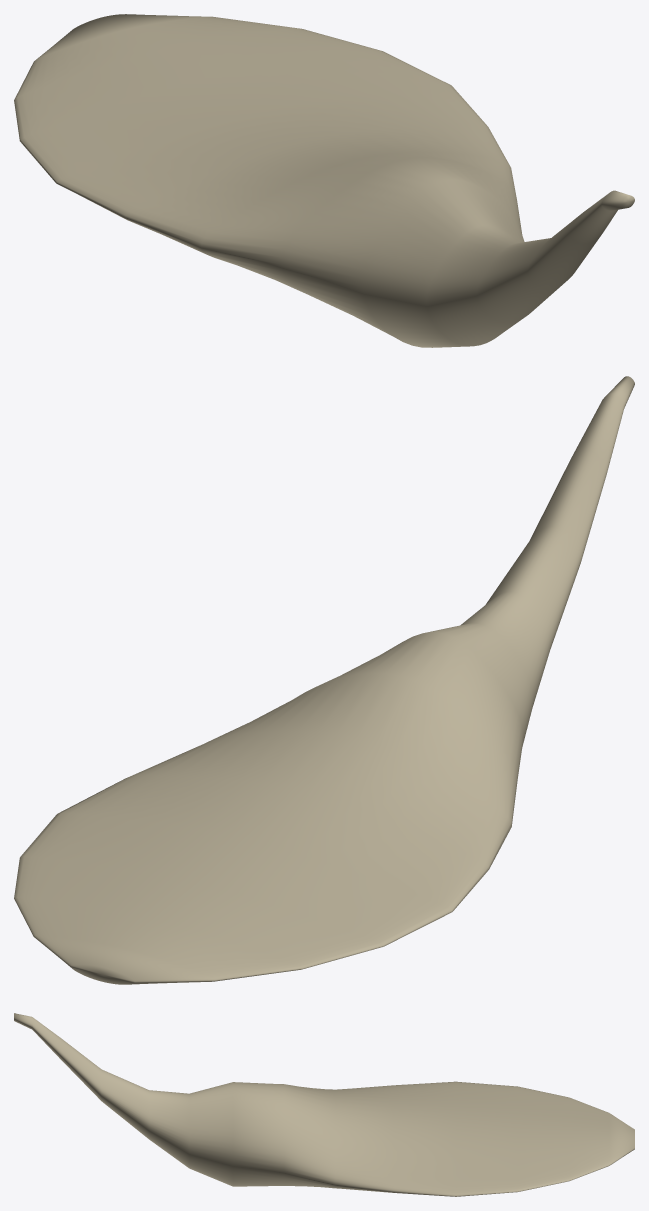
The model's file is belosaepia.glb.
The picture shows the model from 3 angles, top to bottom: view 1: azimuth 30°, elevation 25°; view 2: azimuth 150°, elevation 25°; view 3: azimuth 270°, elevation 25°; orthographic projection. The views are drawn at different scales.
Parts seen in each view (by area): view 1: original-continuous-pronged-internal-shell-thick-posterior-a; view 2: original-continuous-pronged-internal-shell-thick-posterior-a; view 3: original-continuous-pronged-internal-shell-thick-posterior-a.
Part boxes in pixels (x1,y1,x2,y2): original-continuous-pronged-internal-shell-thick-posterior-a: [14, 14, 634, 347]; original-continuous-pronged-internal-shell-thick-posterior-a: [14, 376, 634, 984]; original-continuous-pronged-internal-shell-thick-posterior-a: [14, 1013, 634, 1196].
Bounding box in the file's own units: 0.0479 × 0.0331 × 0.11.
